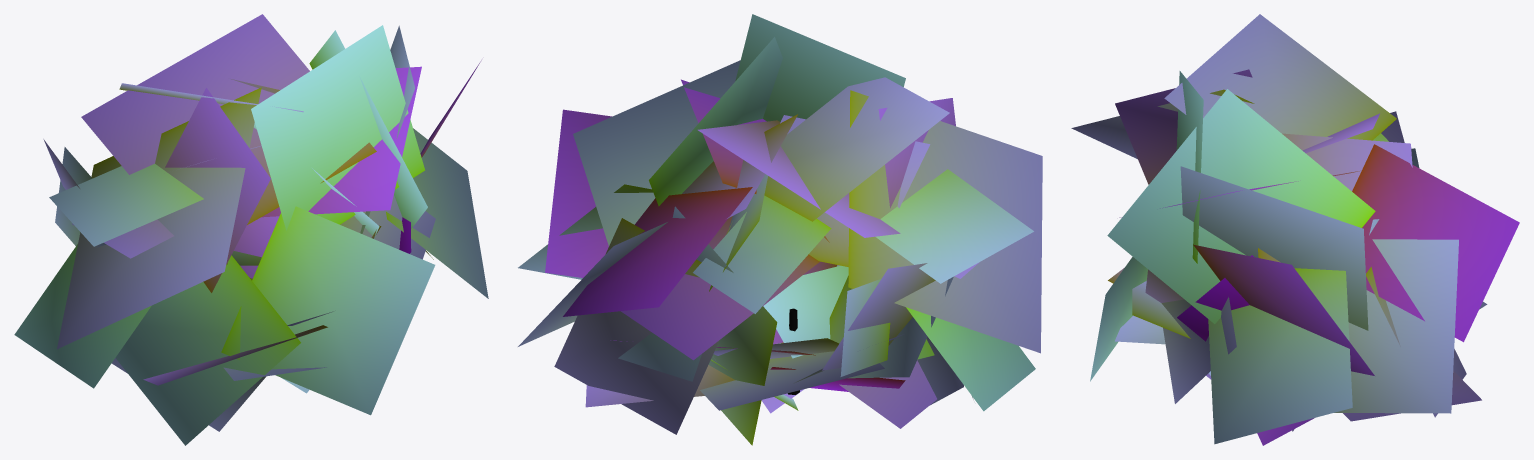
File: tree_azalea_a_lod1.glb
3 renders of one model, left to right at view 1: azimuth 30°, elevation 25°; view 2: azimuth 150°, elevation 25°; view 3: azimuth 270°, elevation 25°, orthographic. The views are drawn at different scales.
Parts seen in each view (by area): view 1: tree_azalea_a_lod1; view 2: tree_azalea_a_lod1; view 3: tree_azalea_a_lod1.
Boxes of the visible parts, x1,y1,x2,y2 form: tree_azalea_a_lod1: (14,14,488,445); tree_azalea_a_lod1: (518,14,1042,445); tree_azalea_a_lod1: (1071,14,1519,445).
Bounding box in the file's own units: 2.35 × 1.78 × 2.02.
